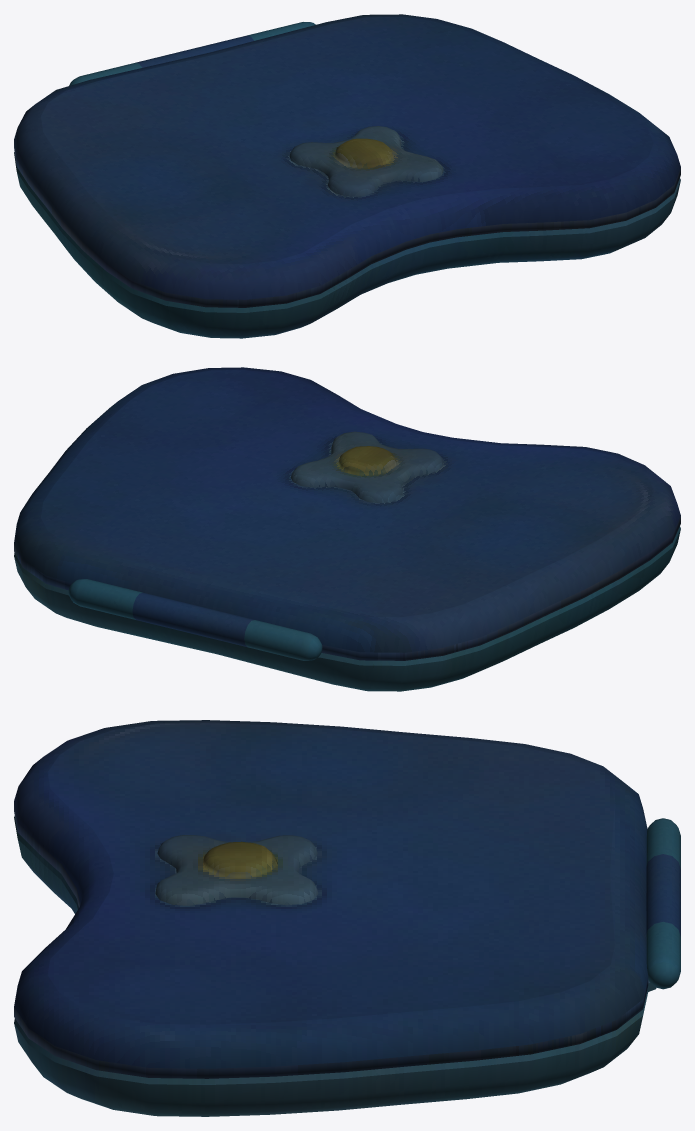
The model's file is kids_computer_1.glb.
3 renders of one model, top to bottom at view 1: azimuth 30°, elevation 25°; view 2: azimuth 150°, elevation 25°; view 3: azimuth 270°, elevation 25°, orthographic. The views are drawn at different scales.
Parts seen in each view (by area): view 1: kids_computer_1_screen, kids_computer_1; view 2: kids_computer_1_screen, kids_computer_1; view 3: kids_computer_1_screen, kids_computer_1.
Part boxes in pixels (x1,y1,x2,y2): kids_computer_1_screen: (14,14,680,307); kids_computer_1: (14,152,680,338); kids_computer_1_screen: (14,367,680,660); kids_computer_1: (14,526,680,691); kids_computer_1_screen: (14,720,680,1078); kids_computer_1: (14,816,656,1116).
Size of the model in its own units: 0.3518 by 0.058 by 0.3008.
1 material, 1 textured.
